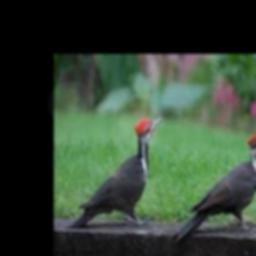Woodpecker: (68, 116, 163, 227), (173, 131, 256, 241)
